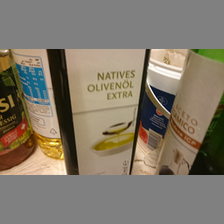oil: (46, 50, 150, 174)
